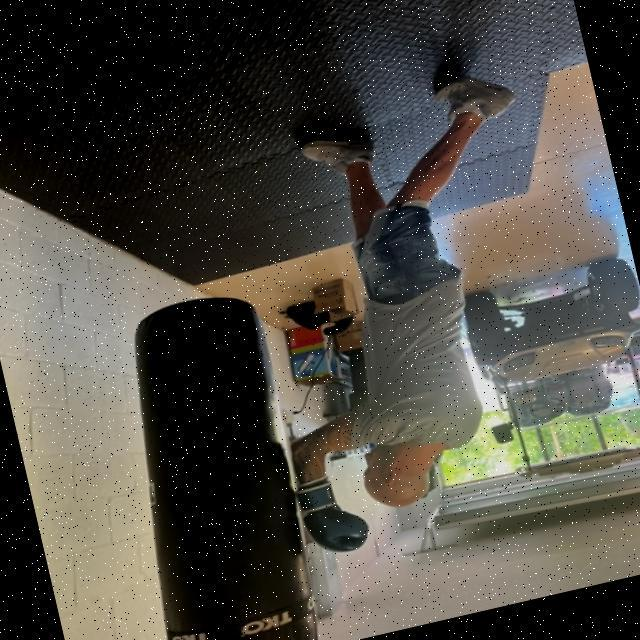uppercut: (264, 353, 526, 582)
